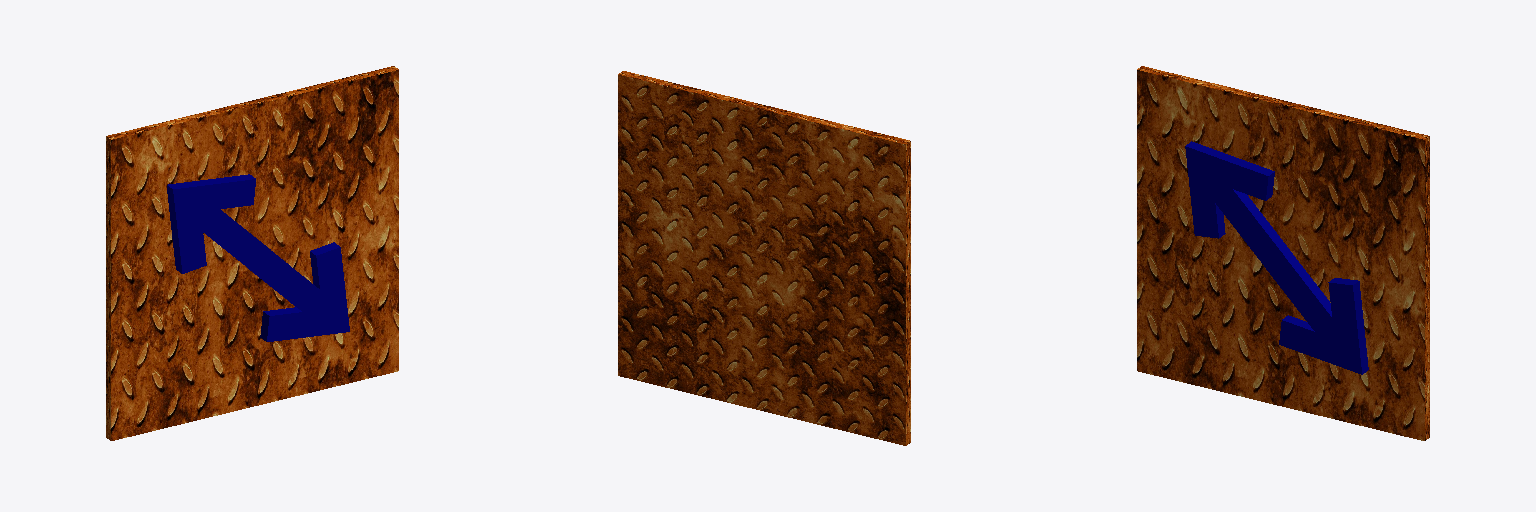
3 renders of one model, left to right at view 1: azimuth 30°, elevation 25°; view 2: azimuth 150°, elevation 25°; view 3: azimuth 330°, elevation 25°, orthographic.
Visible parts, largest first — view 1: Box001, Loft002, Loft003; view 2: Box001; view 3: Box001, Loft002, Loft003.
Part boxes in pixels (x1,y1,x2,y2): Box001: (106,66,398,440); Loft002: (167,174,270,273); Loft003: (248,242,349,341); Box001: (618,71,910,445); Box001: (1137,66,1429,440); Loft002: (1185,141,1289,265); Loft003: (1264,250,1368,374).
Size of the model in its own units: 40 by 40 by 2.85.
2 materials, 1 textured.